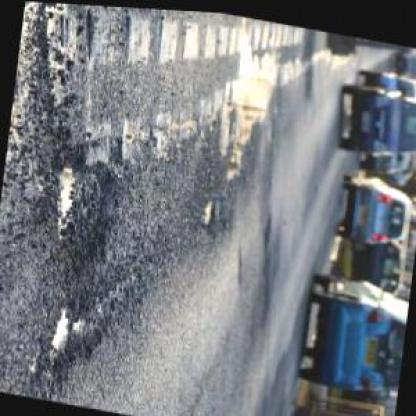pothole: (47, 154, 117, 261), (46, 297, 115, 384), (200, 196, 218, 226)
